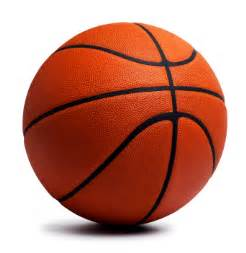basketball: (19, 20, 230, 229)
